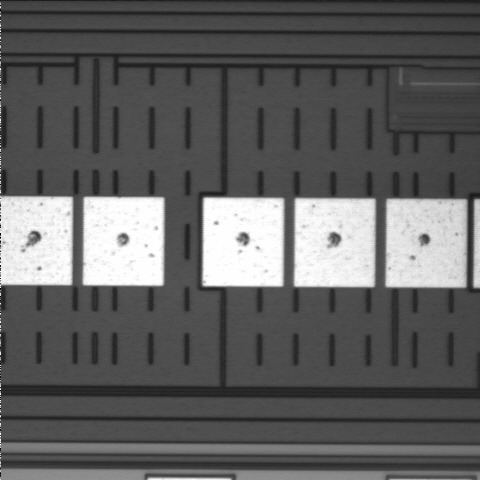pad: (83, 197, 164, 286), (203, 198, 284, 287), (294, 198, 375, 287), (386, 199, 466, 287)
